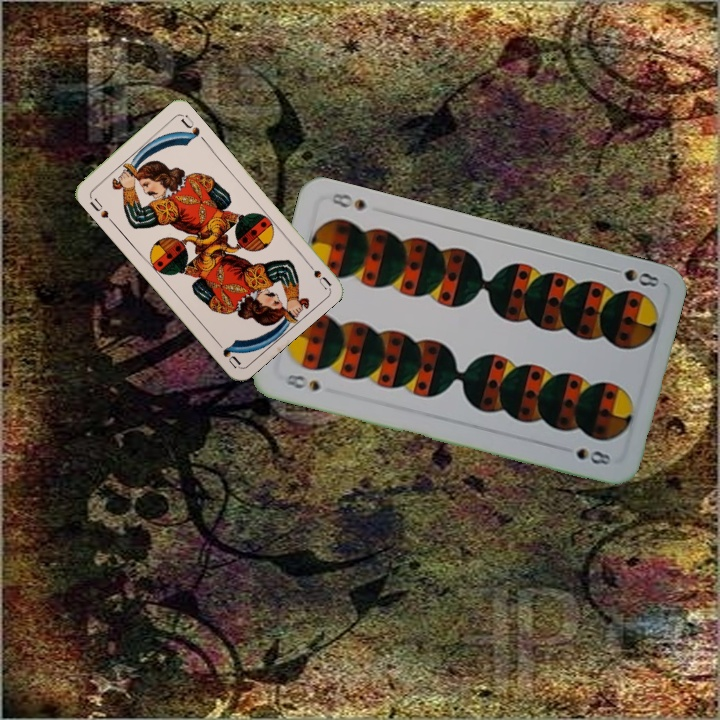S8: (604, 263, 662, 290), (277, 370, 323, 394)
SU: (301, 255, 333, 291), (85, 192, 116, 226)
